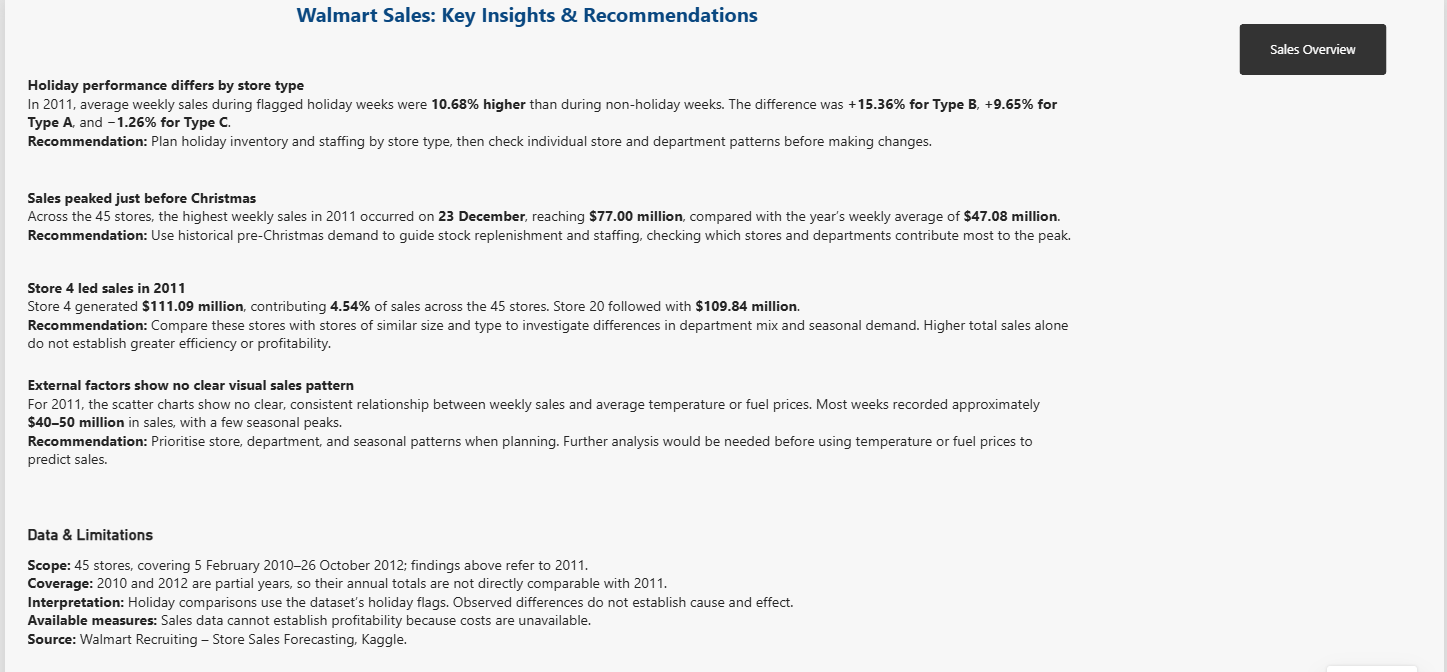

The page's visual inventory and layout, read from the dashboard file:
{"tool":"powerbi","page":{"name":"Key insights","canvas":[1920,1080],"ordinal":7},"visuals":[{"type":"textbox","box":[0,0,1392,56],"z":0},{"type":"textbox","box":[30,100,1392,150],"z":1000},{"type":"textbox","box":[30,250,1392,150],"z":2000},{"type":"textbox","box":[30,370,1392,150],"z":3000},{"type":"textbox","box":[30,500,1392,150],"z":4000},{"type":"textbox","title":"Data & Limitations","box":[30,701,1392.6,187.6],"z":5000},{"type":"actionButton","box":[1645.8,32.8,196,68],"z":5001}]}

Visuals, with their boxes on the page's 1920x1080 design canvas (x1, y1, x2, y2). These are canvas units, not pixel positions in the 1447x672 screenshot, which may show the page scaled, cropped or inside an application window:
textbox: 0/0/1392/56
textbox: 30/100/1422/250
textbox: 30/250/1422/400
textbox: 30/370/1422/520
textbox: 30/500/1422/650
"Data & Limitations" textbox: 30/701/1423/889
actionButton: 1646/33/1842/101
